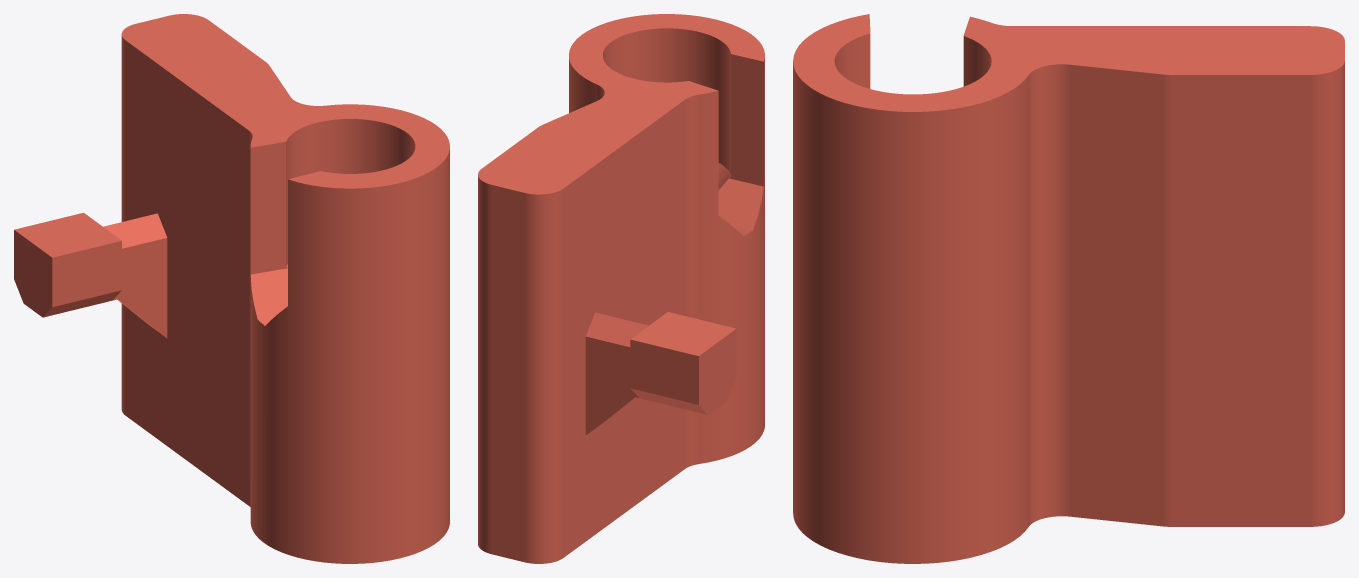
Rendered from lever.glb.
The picture shows the model from 3 angles, left to right: view 1: azimuth 30°, elevation 25°; view 2: azimuth 150°, elevation 25°; view 3: azimuth 270°, elevation 25°; orthographic projection. The views are drawn at different scales.
Visible parts, largest first — view 1: =>[0:1:1:3]; view 2: =>[0:1:1:3]; view 3: =>[0:1:1:3].
Boxes of the visible parts, <box> form: =>[0:1:1:3]: <box>14,14,449,563</box>; =>[0:1:1:3]: <box>478,14,764,563</box>; =>[0:1:1:3]: <box>793,14,1344,563</box>.
Bounding box in the file's own units: 0.0163 × 0.0216 × 0.0239.
